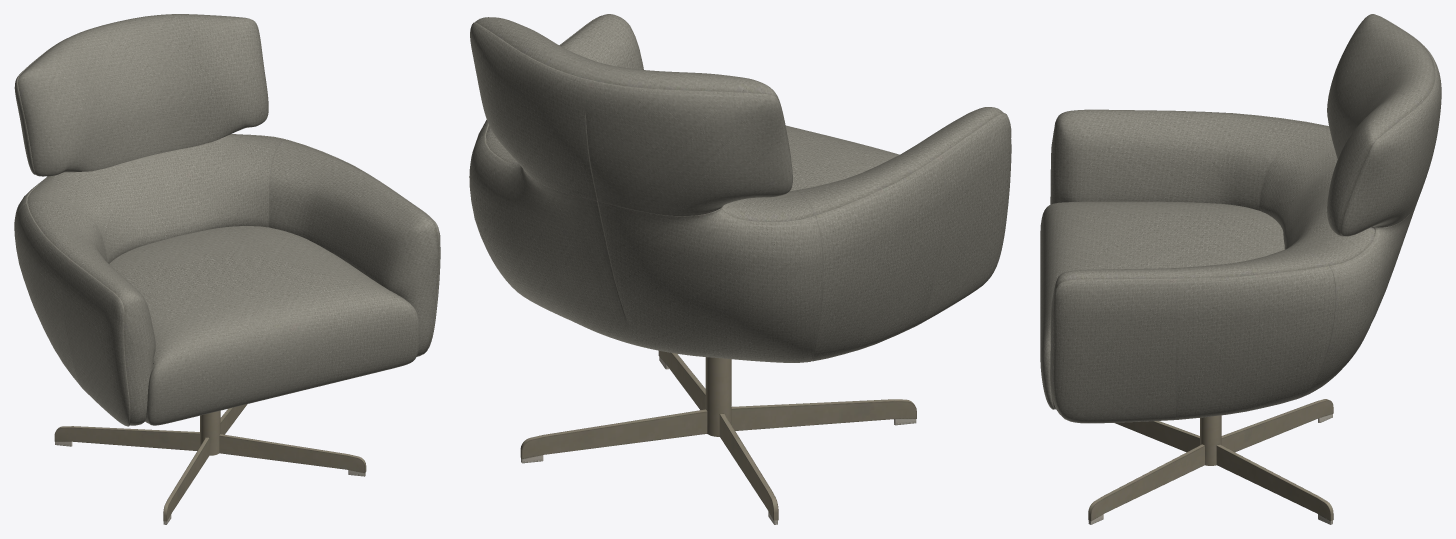
Rendered from B07QGSZ38G.glb.
3 renders of one model, left to right at view 1: azimuth 30°, elevation 25°; view 2: azimuth 150°, elevation 25°; view 3: azimuth 270°, elevation 25°, orthographic. The views are drawn at different scales.
Parts seen in each view (by area): view 1: RootNode; view 2: RootNode; view 3: RootNode.
Part boxes in pixels (bbox=[...]): RootNode: bbox=[14, 14, 440, 524]; RootNode: bbox=[469, 14, 1011, 524]; RootNode: bbox=[1040, 14, 1441, 524].
Bounding box in the file's own units: 0.76 × 0.81 × 0.73.
Materials: 1 (1 with a texture image).
